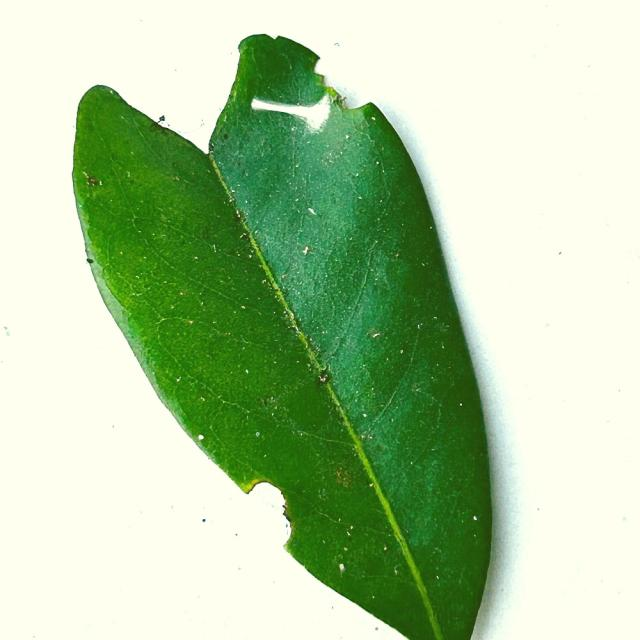Deficiency Leaf: (98, 34, 289, 148), (251, 84, 338, 132), (243, 481, 291, 545)
Lychee: (73, 35, 492, 639)
